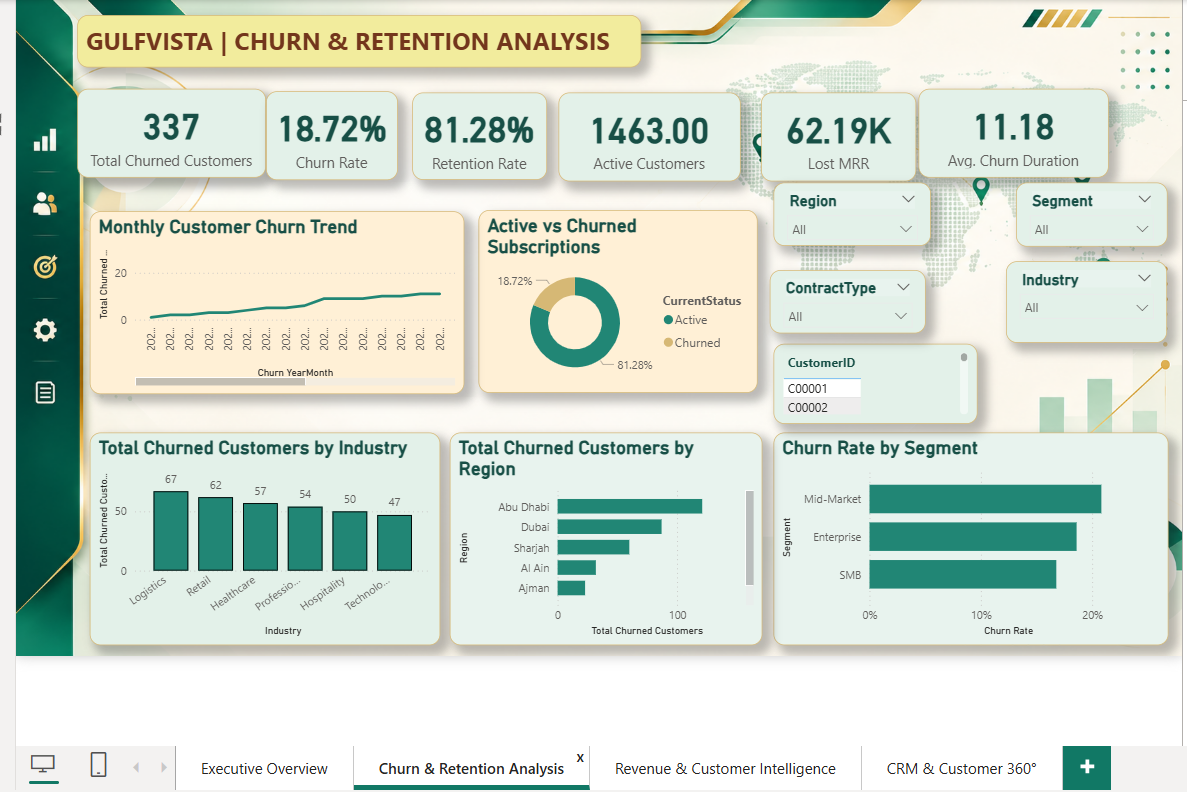

What the dashboard file says about the page in this screenshot:
{"tool":"powerbi","page":{"name":"Churn & Retention Analysis","canvas":[1280,720],"ordinal":1},"visuals":[{"type":"card","fields":{"Values":["DimCustomer.Total Churned Customers"]},"box":[67.1,97.5,207.3,97.5],"z":0},{"type":"card","fields":{"Values":["DimCustomer.Churn Rate"]},"box":[274.4,100.6,144.8,97.5],"z":1000},{"type":"card","fields":{"Values":["DimCustomer.Retention Rate"]},"box":[434.4,102.1,147.8,96],"z":2000},{"type":"card","fields":{"Values":["DimCustomer.Active Customers"]},"box":[596,102.1,199.7,97.5],"z":3000},{"type":"card","fields":{"Values":["DimCustomer.Lost MRR"]},"box":[818.5,102.1,170.7,97.5],"z":4000},{"type":"card","fields":{"Values":["DimCustomer.Average Churned Subscription Duration"]},"box":[990.7,97.5,208.8,97.5],"z":5000},{"type":"donutChart","title":"Active vs Churned Subscriptions","fields":{"Category":["FactSubscription.CurrentStatus"],"Y":["DimCustomer.Total Subscriptions"]},"box":[507.6,231,306.5,201],"z":6000},{"type":"lineChart","title":"Monthly Customer Churn Trend","fields":{"Y":["DimCustomer.Total Churned Customers"],"Category":["FactSubscription.Churn YearMonth"]},"box":[80.8,231.7,411.5,201.2],"z":7000},{"type":"clusteredBarChart","fields":{"Category":["DimCustomer.Segment"],"Y":["DimCustomer.Churn Rate"]},"box":[831.2,474.8,433.4,233.8],"z":8000},{"type":"clusteredColumnChart","fields":{"Category":["DimCustomer.Industry"],"Y":["DimCustomer.Total Churned Customers"]},"box":[81.3,474.8,384.9,233.8],"z":9000},{"type":"clusteredBarChart","fields":{"Category":["DimCustomer.Region"],"Y":["DimCustomer.Total Churned Customers"]},"box":[476.2,474.8,343.6,233.8],"z":10000},{"type":"slicer","fields":{"Values":["DimCustomer.Region"]},"box":[914.5,216.4,172.2,70.1],"z":11000},{"type":"slicer","fields":{"Values":["DimCustomer.Segment"]},"box":[1097.4,199.7,166.1,70.1],"z":12000},{"type":"slicer","fields":{"Values":["DimCustomer.Industry"]},"box":[1086.7,286.5,176.8,89.9],"z":13000},{"type":"tableEx","fields":{"Values":["DimCustomer.CustomerID"]},"box":[844.4,359.7,225.6,100.6],"z":14000},{"type":"textbox","box":[67.1,16.8,618.8,57.9],"z":15000}]}

Visuals, with their boxes on the page's 1280x720 design canvas (x1, y1, x2, y2). These are canvas units, not pixel positions in the 1187x792 screenshot, which may show the page scaled, cropped or inside an application window:
card - DimCustomer.Total Churned Customers: <bbox>67, 98, 274, 195</bbox>
card - DimCustomer.Churn Rate: <bbox>274, 101, 419, 198</bbox>
card - DimCustomer.Retention Rate: <bbox>434, 102, 582, 198</bbox>
card - DimCustomer.Active Customers: <bbox>596, 102, 796, 200</bbox>
card - DimCustomer.Lost MRR: <bbox>818, 102, 989, 200</bbox>
card - DimCustomer.Average Churned Subscription Duration: <bbox>991, 98, 1200, 195</bbox>
"Active vs Churned Subscriptions" donutChart: <bbox>508, 231, 814, 432</bbox>
"Monthly Customer Churn Trend" lineChart: <bbox>81, 232, 492, 433</bbox>
clusteredBarChart - DimCustomer.Segment x DimCustomer.Churn Rate: <bbox>831, 475, 1265, 709</bbox>
clusteredColumnChart - DimCustomer.Industry x DimCustomer.Total Churned Customers: <bbox>81, 475, 466, 709</bbox>
clusteredBarChart - DimCustomer.Region x DimCustomer.Total Churned Customers: <bbox>476, 475, 820, 709</bbox>
slicer - DimCustomer.Region: <bbox>914, 216, 1087, 286</bbox>
slicer - DimCustomer.Segment: <bbox>1097, 200, 1264, 270</bbox>
slicer - DimCustomer.Industry: <bbox>1087, 286, 1264, 376</bbox>
tableEx - DimCustomer.CustomerID: <bbox>844, 360, 1070, 460</bbox>
textbox: <bbox>67, 17, 686, 75</bbox>
